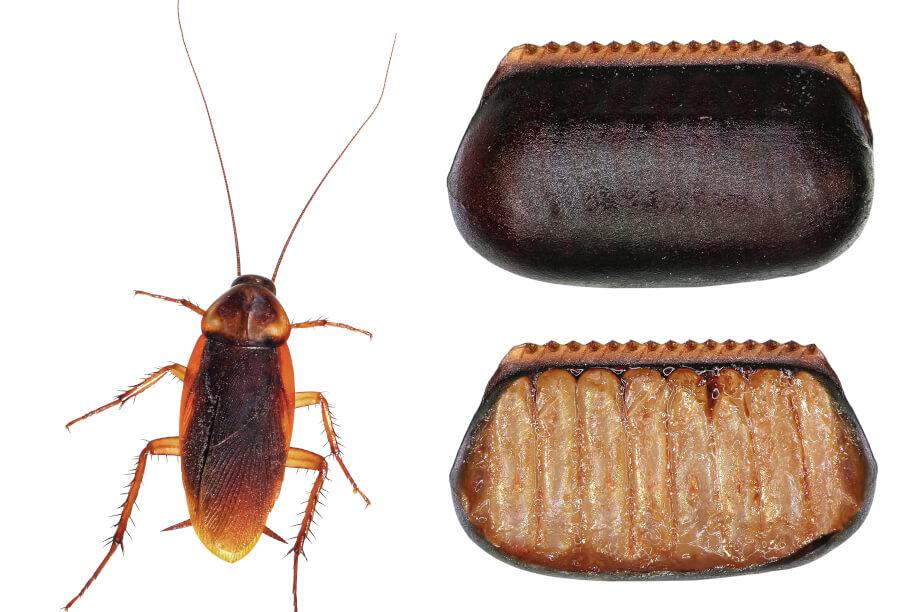cockroach: (158, 268, 316, 580)
